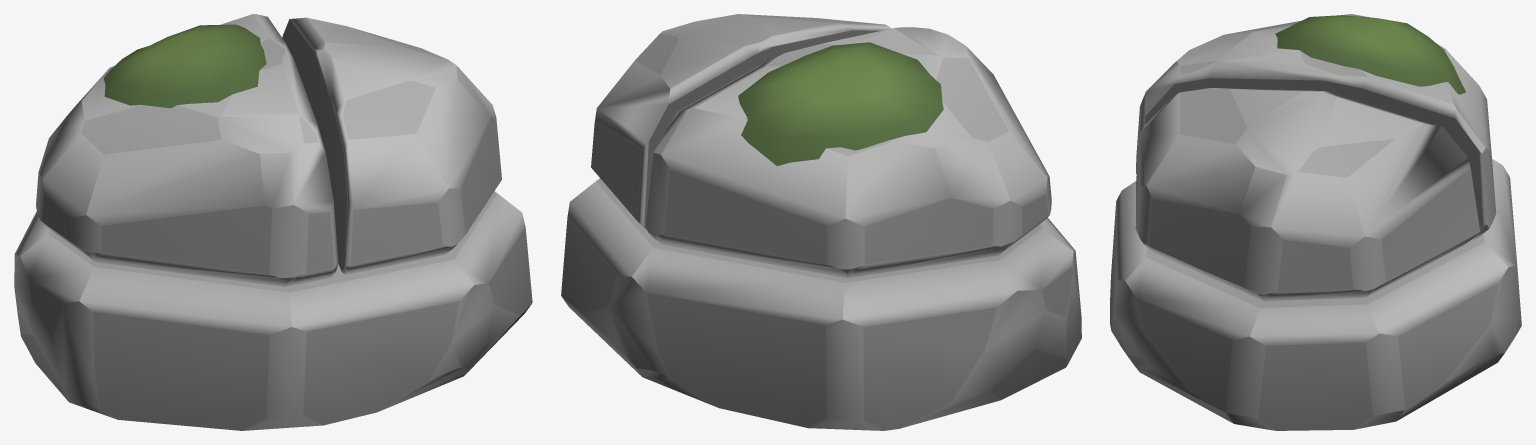
File: ground_tor_a.glb
3 views of the same model, side by side, from view 1: azimuth 30°, elevation 25°; view 2: azimuth 150°, elevation 25°; view 3: azimuth 270°, elevation 25° (orthographic). The views are drawn at different scales.
Visible parts, largest first — view 1: ground_tor_a_LOD0; view 2: ground_tor_a_LOD0; view 3: ground_tor_a_LOD0.
Boxes of the visible parts, x1,y1,x2,y2 form: ground_tor_a_LOD0: (14,14,532,430); ground_tor_a_LOD0: (561,14,1081,430); ground_tor_a_LOD0: (1110,14,1521,430).
Size of what is drawn, in the model's own units: 1.05 by 0.6265 by 0.8507.
